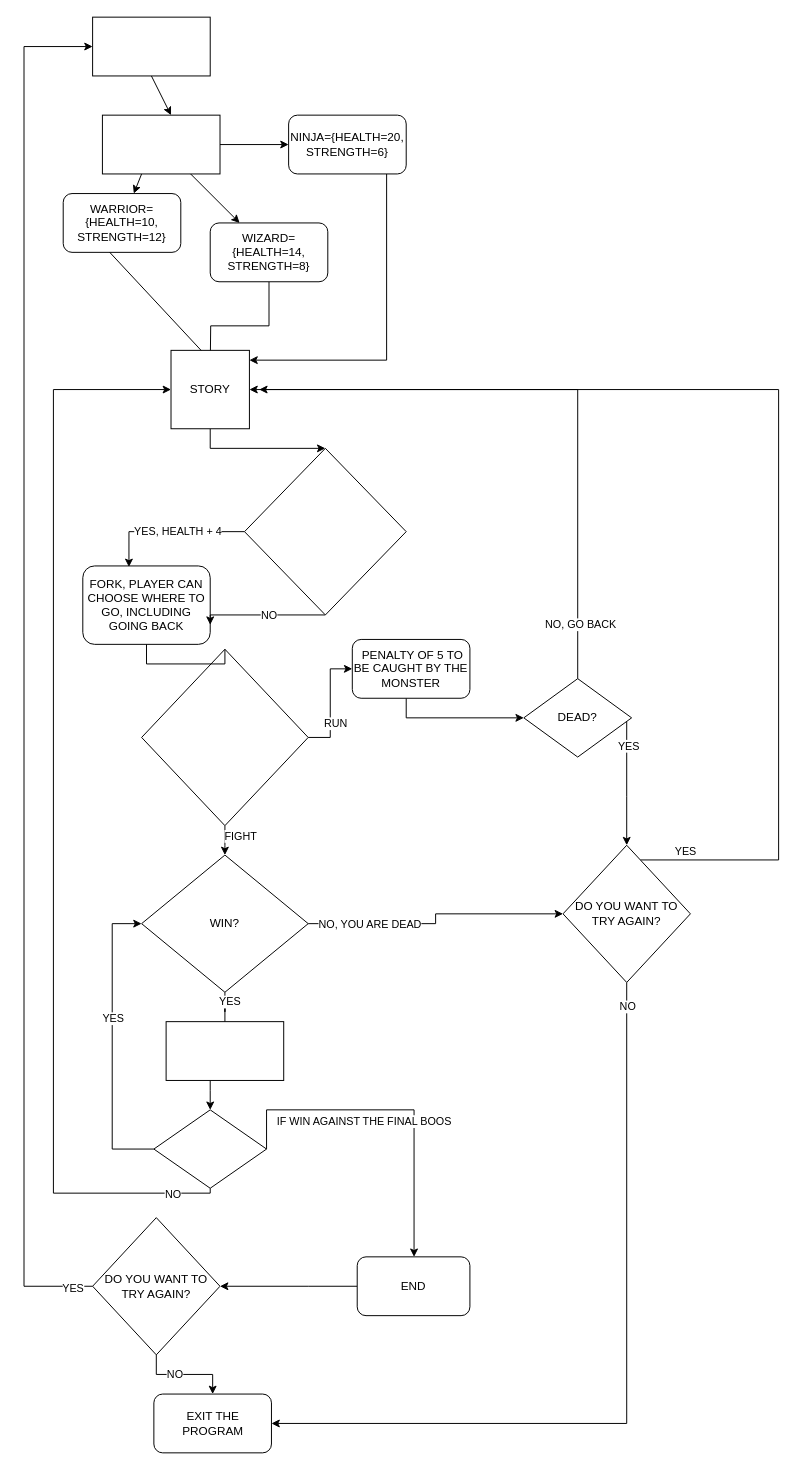
Image size: 804x1470. Some labels were removed from this diagram. Here are the shapes that lost their labels. From the top down, the centre of each, then its label:
At pixel 151 46: "ASK FOR CHARACTER NAME".
At pixel 160 144: "ASK FOR CLASS".
At pixel 325 531: "IF POTION > 0, THEN WOULD YOU LIKE TO DRINK THE POTION OF HEALTH?".
At pixel 224 737: "WHEN ENCOUNTER A MONSTER, CHOICE: FIGHT, RUN".
At pixel 224 1050: "OBTAIN A HEALTH POTION AND 10 COINS".
At pixel 210 1148: "FINAL BOSS?".
